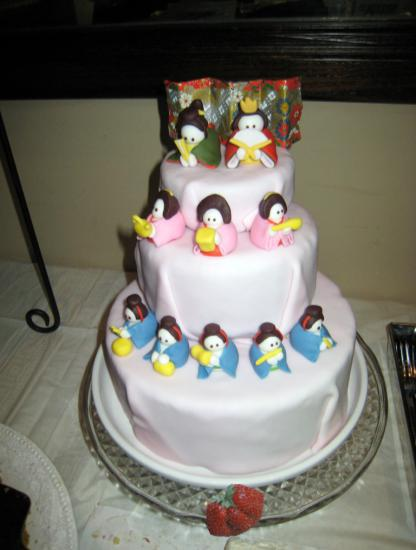Strawberry: (202, 477, 268, 543)
